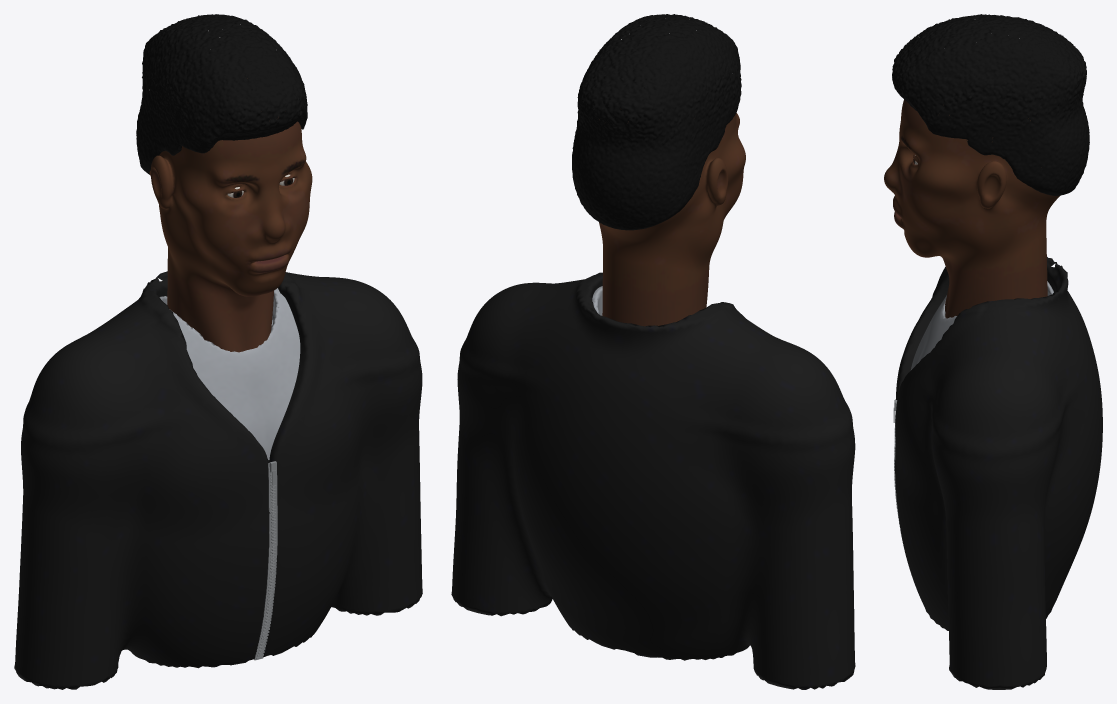
The model's file is cheikh-avatar.glb.
The picture shows the model from 3 angles, left to right: view 1: azimuth 30°, elevation 25°; view 2: azimuth 150°, elevation 25°; view 3: azimuth 270°, elevation 25°; orthographic projection. The views are drawn at different scales.
Visible parts, largest first — view 1: Jacket, Skin, Hair, Tshirt, Zipper; view 2: Jacket, Hair, Skin; view 3: Jacket, Hair, Skin, Tshirt.
Part boxes in pixels (box(x1,y1,x2,y2)): Jacket: box(14, 271, 422, 689); Skin: box(149, 78, 312, 352); Hair: box(136, 14, 307, 174); Tshirt: box(159, 288, 300, 459); Zipper: box(254, 461, 277, 660); Jacket: box(451, 272, 855, 689); Hair: box(572, 14, 741, 230); Skin: box(599, 113, 745, 326); Jacket: box(895, 257, 1102, 689); Hair: box(892, 14, 1089, 195); Skin: box(884, 99, 1059, 318); Tshirt: box(910, 281, 1053, 370).
Bounding box in the file's own units: 0.5193 × 0.767 × 0.2636.
